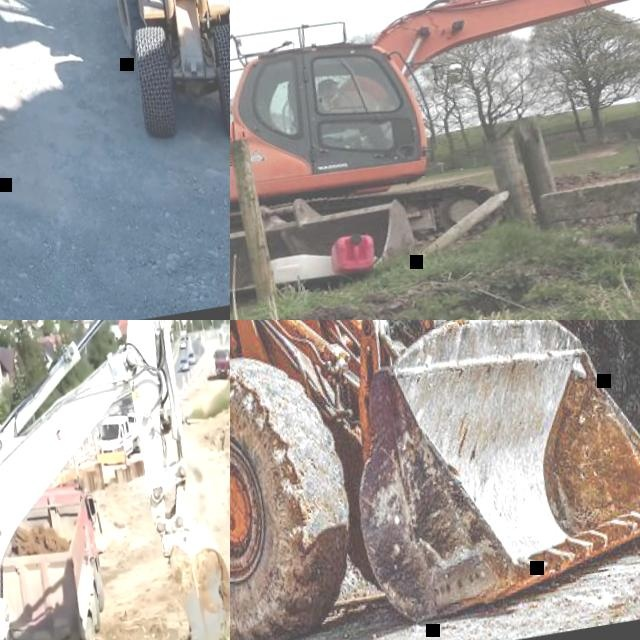NO-Hardhat: (317, 77, 339, 89)
Person: (313, 68, 393, 160)
machinery: (230, 320, 640, 640), (230, 0, 640, 314), (0, 320, 230, 640), (85, 0, 230, 161), (0, 473, 125, 640), (212, 345, 230, 380)
vehicle: (97, 414, 135, 465), (127, 411, 143, 452), (179, 357, 190, 372), (187, 351, 198, 365), (180, 340, 187, 349)
